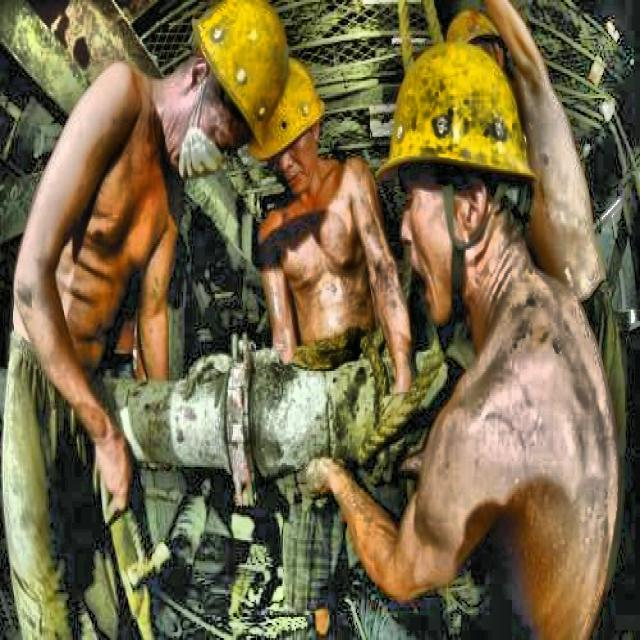helmet: (375, 27, 547, 319), (170, 2, 292, 161), (244, 58, 329, 190), (448, 8, 507, 88)
